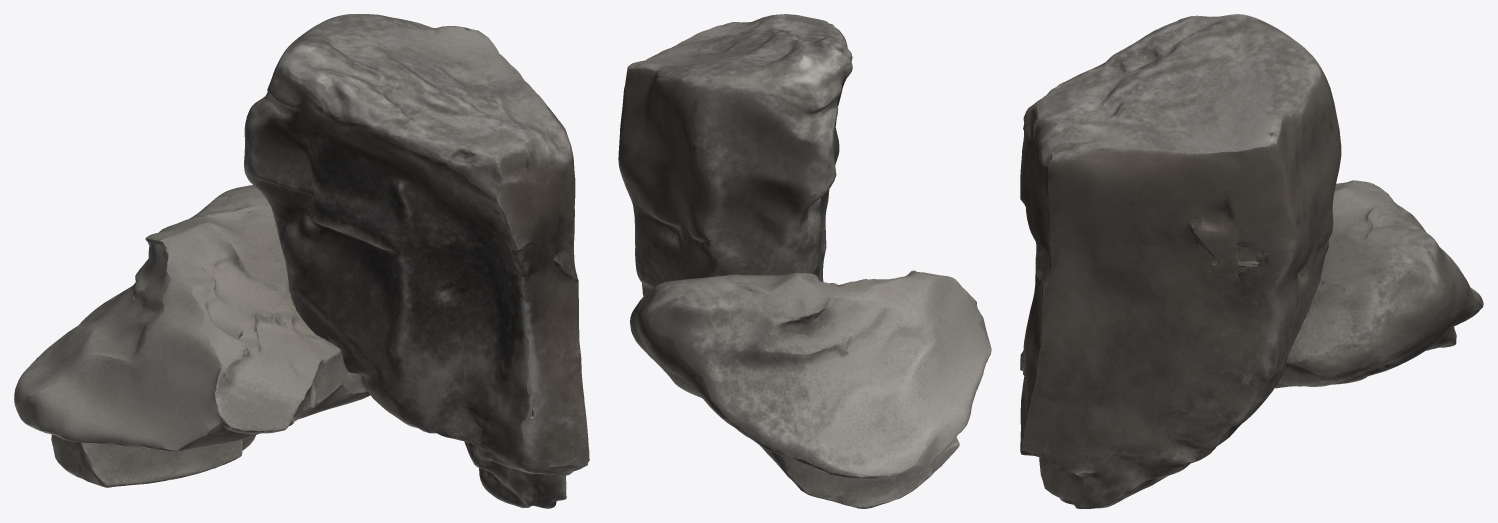
3 views of the same model, side by side, from view 1: azimuth 30°, elevation 25°; view 2: azimuth 150°, elevation 25°; view 3: azimuth 270°, elevation 25° (orthographic). The views are drawn at different scales.
Visible parts, largest first — view 1: world; view 2: world; view 3: world.
Part boxes in pixels (x1=…): world: x1=14, y1=14, x2=589, y2=508; world: x1=618, y1=14, x2=991, y2=508; world: x1=1020, y1=14, x2=1483, y2=508.
Size of the model in its own units: 1.49 by 1.5 by 1.5.
1 material, 1 textured.
